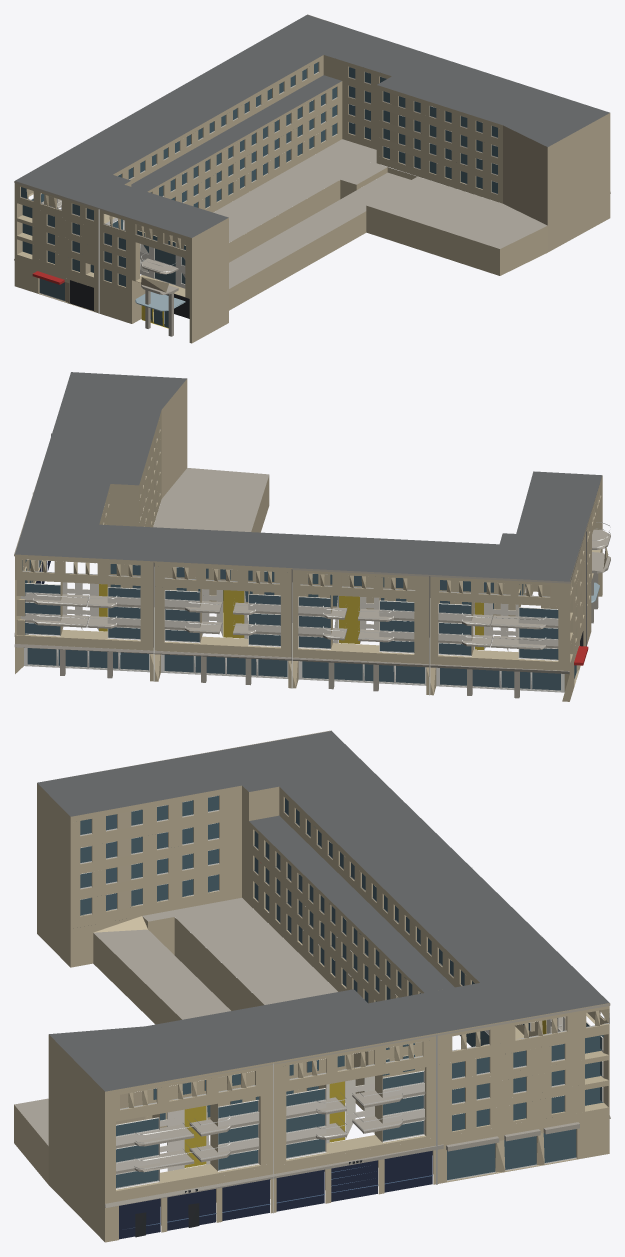
File: kinkerstraat-89.lod1.glb
The picture shows the model from 3 angles, top to bottom: view 1: azimuth 30°, elevation 25°; view 2: azimuth 150°, elevation 25°; view 3: azimuth 270°, elevation 25°; orthographic projection. The views are drawn at different scales.
Visible parts, largest first — view 1: kinkerstraat-89; view 2: kinkerstraat-89; view 3: kinkerstraat-89.
Part boxes in pixels (box(x1,y1,x2,y2)): kinkerstraat-89: box(14, 14, 610, 343); kinkerstraat-89: box(14, 372, 610, 701); kinkerstraat-89: box(14, 730, 610, 1242).
Bounding box in the file's own units: 80.18 × 15.59 × 55.92.
